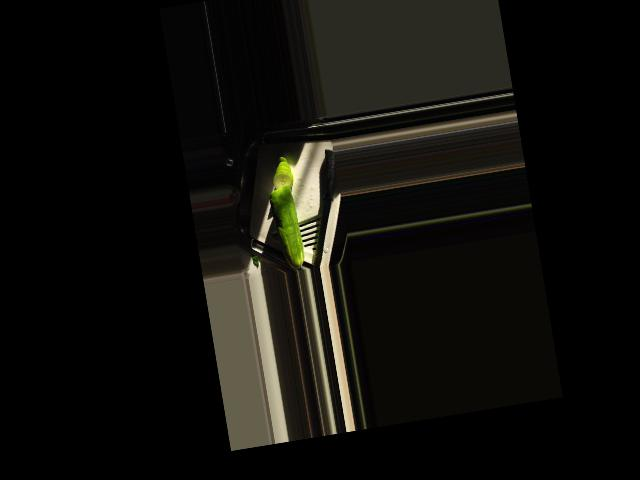cucumber: (268, 183, 306, 271)
